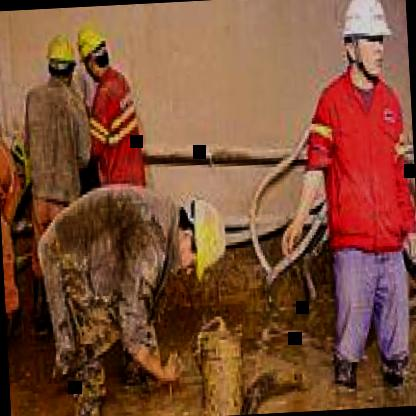helmet: (169, 186, 237, 284), (337, 0, 396, 84), (72, 17, 108, 89), (47, 33, 81, 96)
